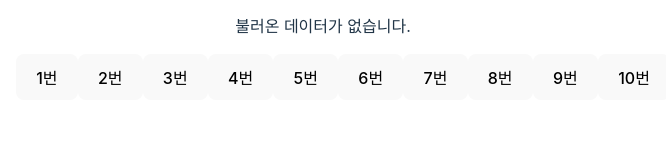
FetchComponent 테스트 › 버튼 클릭 시 데이터 불러온다
Click the button "1번" at (47,77), box [16,54,78,100]
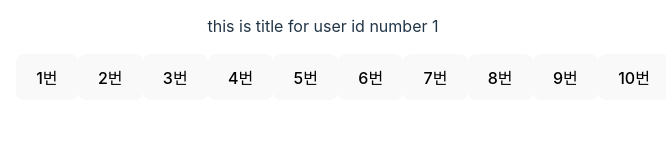
Result: the text "this is title for user id number 1" is shown at [208,16,438,36]
